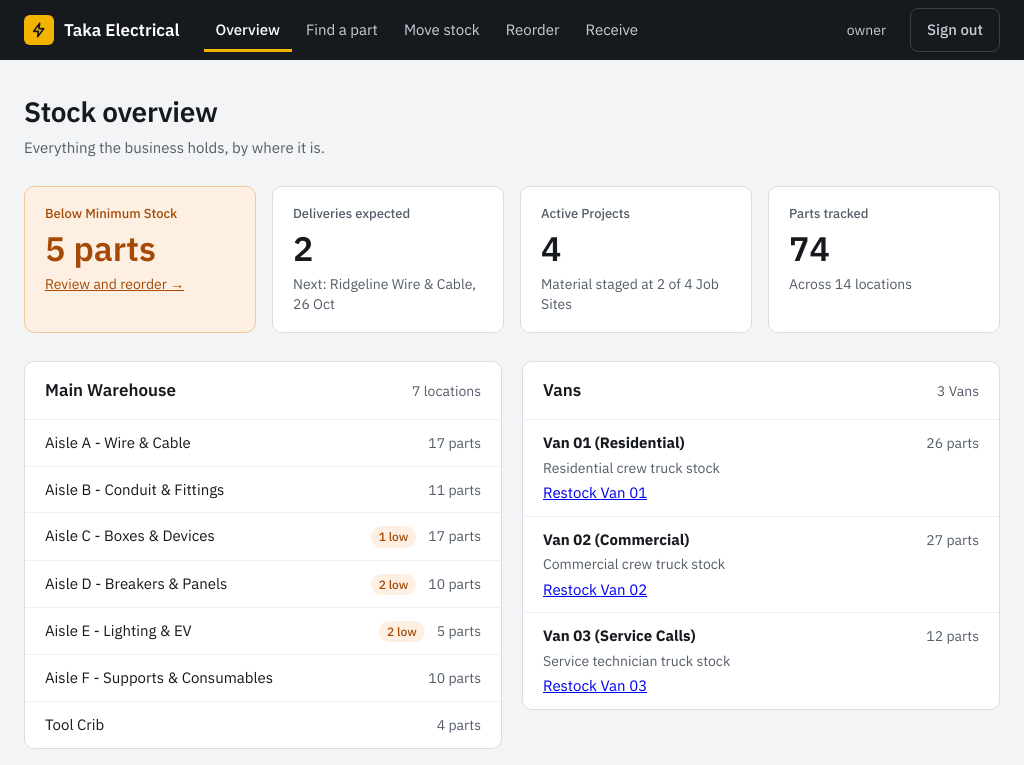
Scenario: Reorder › moves a part to another supplier's draft, with no price yet, and recalculates both totals
Click the link "Reorder" at (533, 30), box top-left (506, 20), bottom-right (560, 39)
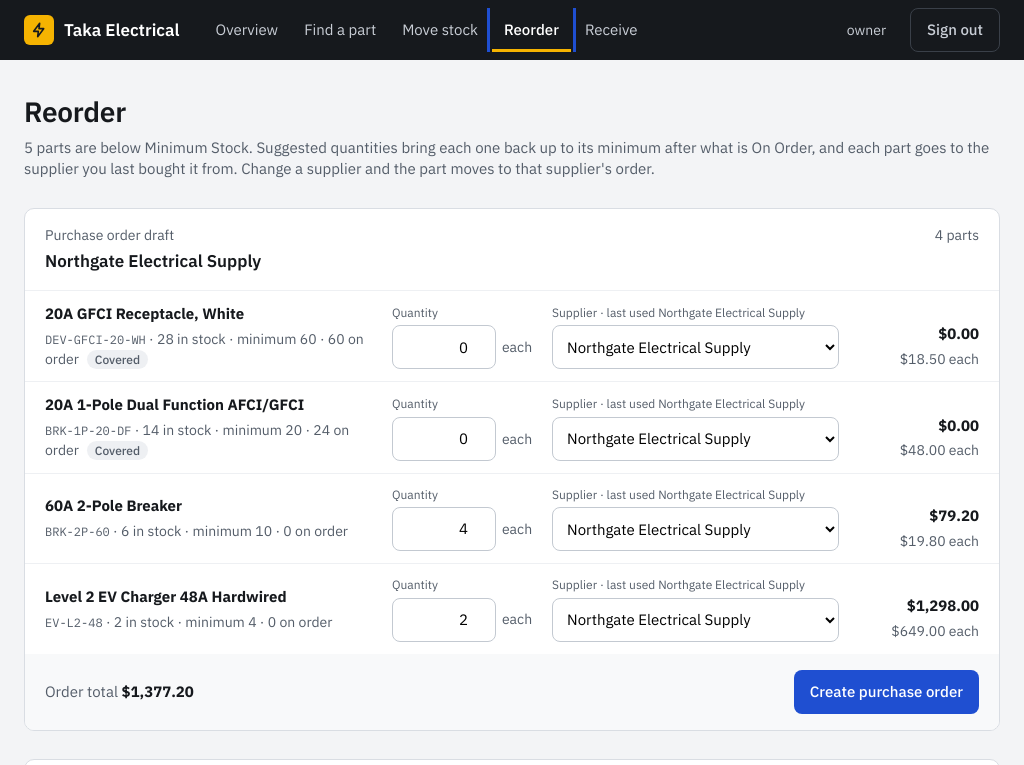
Select "BrightPath Lighting Distributors" in the dropdown labelled "Supplier · last used Northgate Electrical Supply" next to "$19.80 each" at (696, 529), box top-left (552, 507), bottom-right (839, 551)
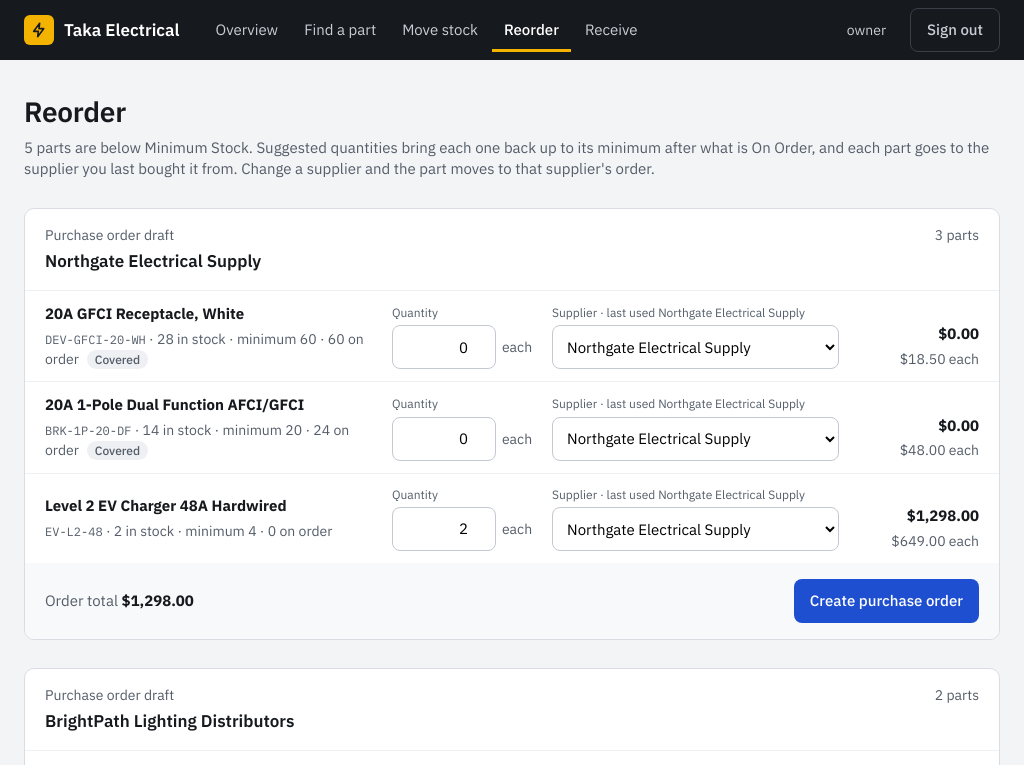
Expected: the element showing "Order total $1,298.00" is shown, top-left (45, 590), bottom-right (194, 612)
